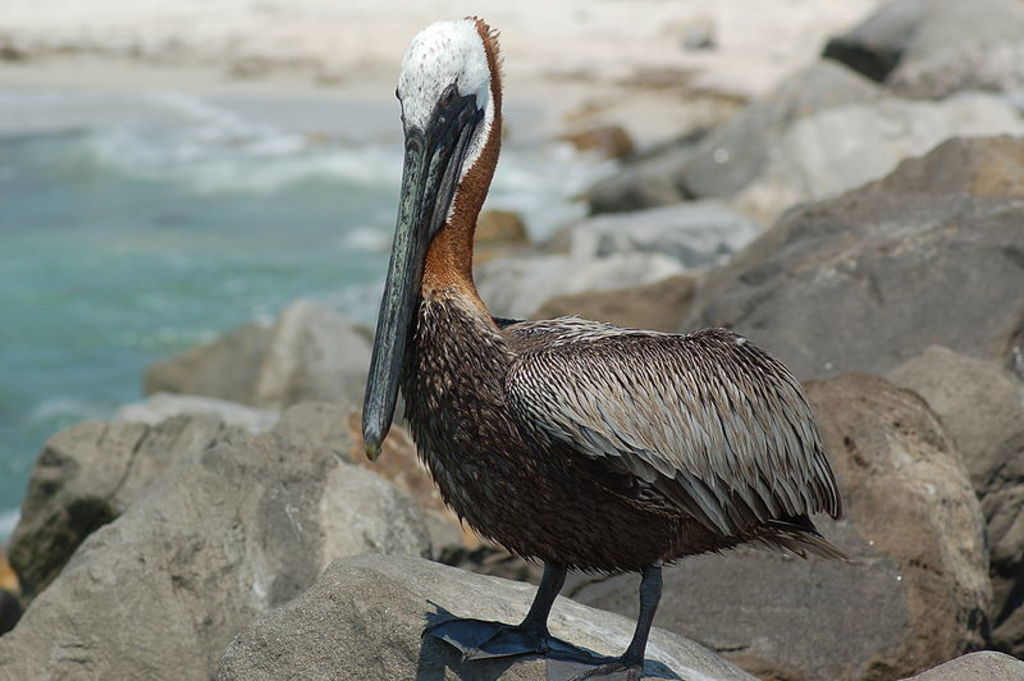Bird: (360, 12, 854, 681)
